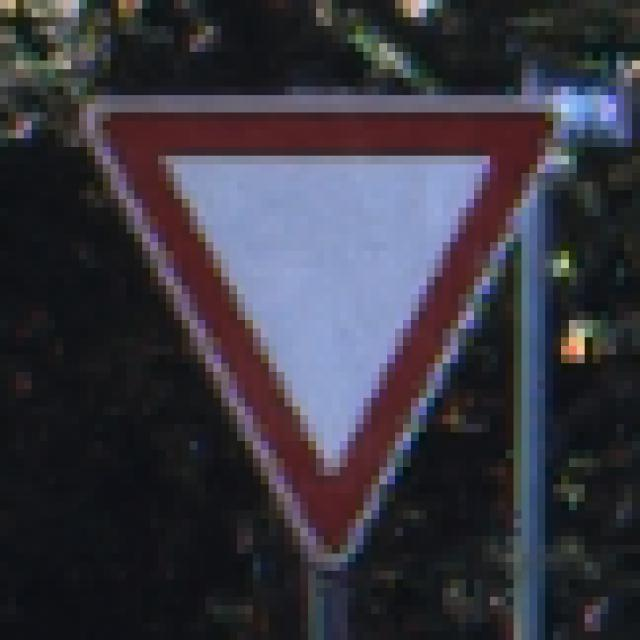Give Way: (64, 53, 578, 589)
